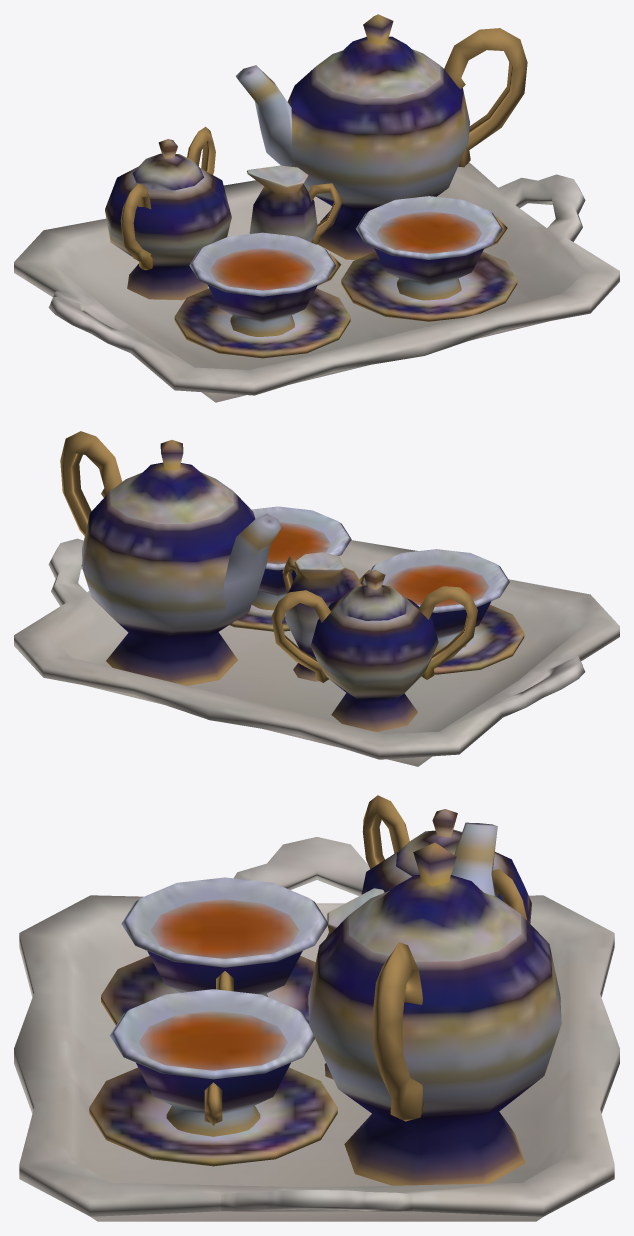
The picture shows the model from 3 angles, top to bottom: view 1: azimuth 30°, elevation 25°; view 2: azimuth 150°, elevation 25°; view 3: azimuth 270°, elevation 25°; orthographic projection. The views are drawn at different scales.
Bounding box in the file's own units: 9.85 × 4.17 × 7.01.
1 material, 1 textured.
